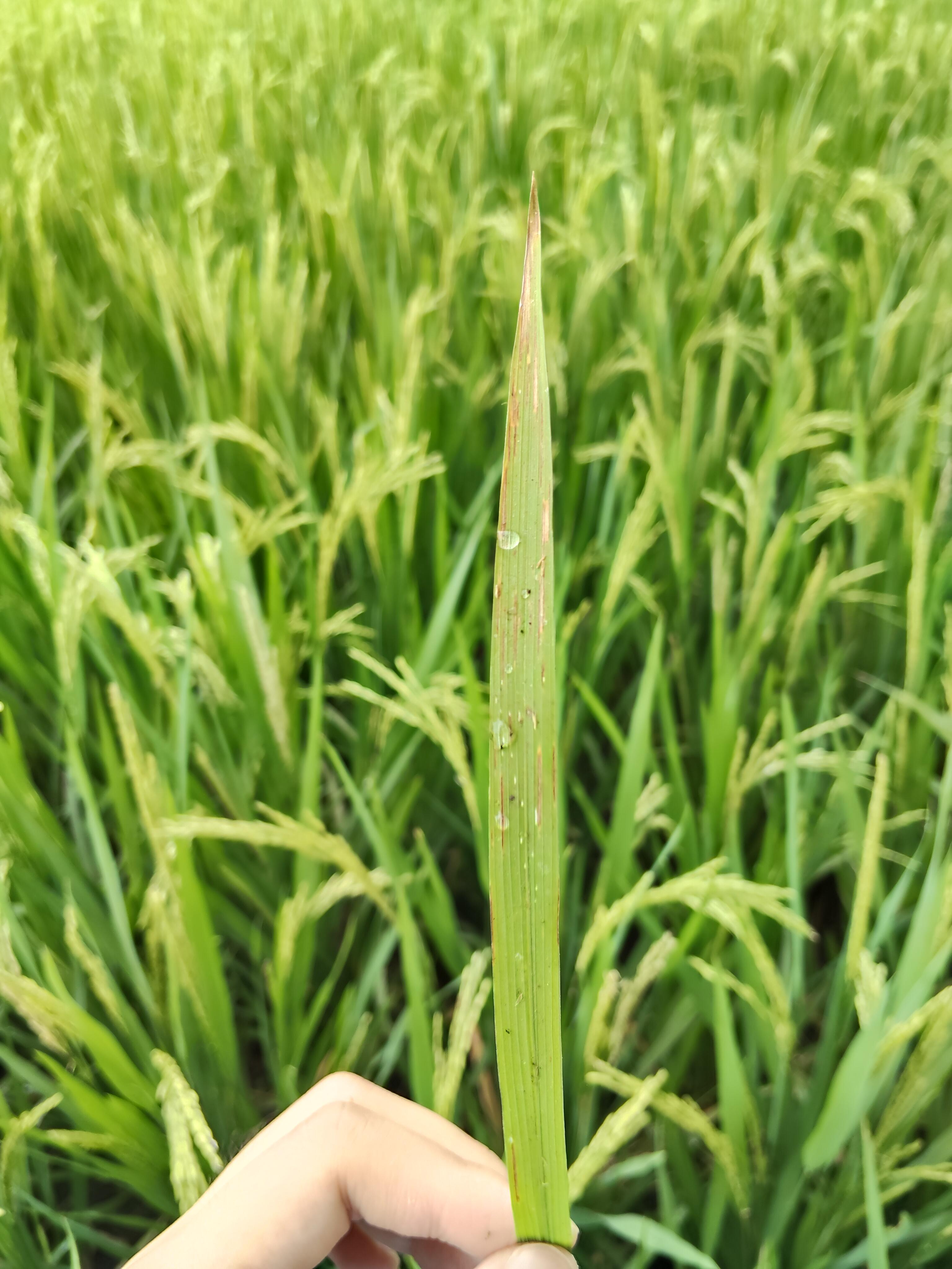NBS: (535, 747, 542, 826), (538, 561, 544, 651), (511, 1145, 520, 1201), (513, 402, 521, 458), (534, 325, 539, 412), (501, 467, 507, 534), (542, 494, 549, 547), (514, 597, 519, 661), (526, 330, 530, 404), (490, 897, 494, 967), (501, 778, 505, 848), (496, 581, 501, 636), (552, 744, 556, 801), (540, 403, 542, 487), (502, 630, 505, 683), (508, 714, 514, 740), (557, 880, 559, 946), (508, 421, 511, 463), (511, 379, 515, 396), (494, 751, 497, 768), (541, 666, 544, 679)
